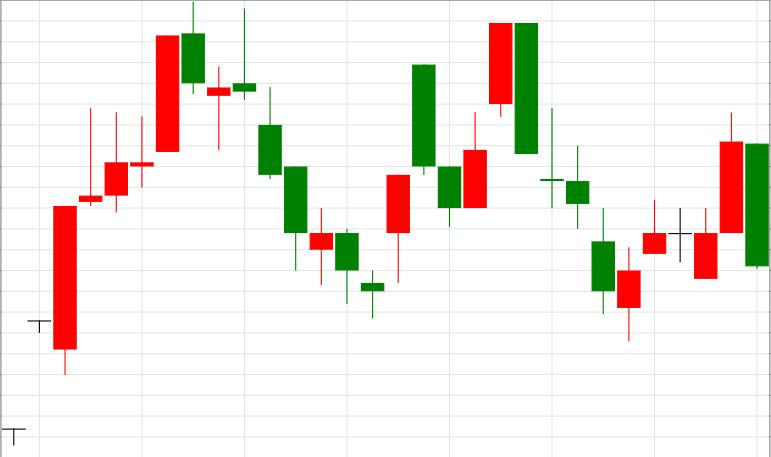bearish_engulfing_fall: (387, 23, 537, 282)
morning_star_rise: (182, 1, 409, 318)
